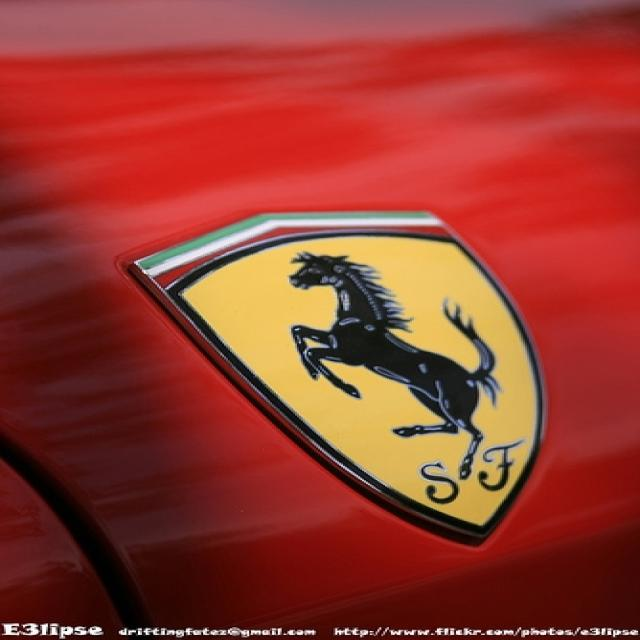ferrari: (133, 212, 547, 531)
